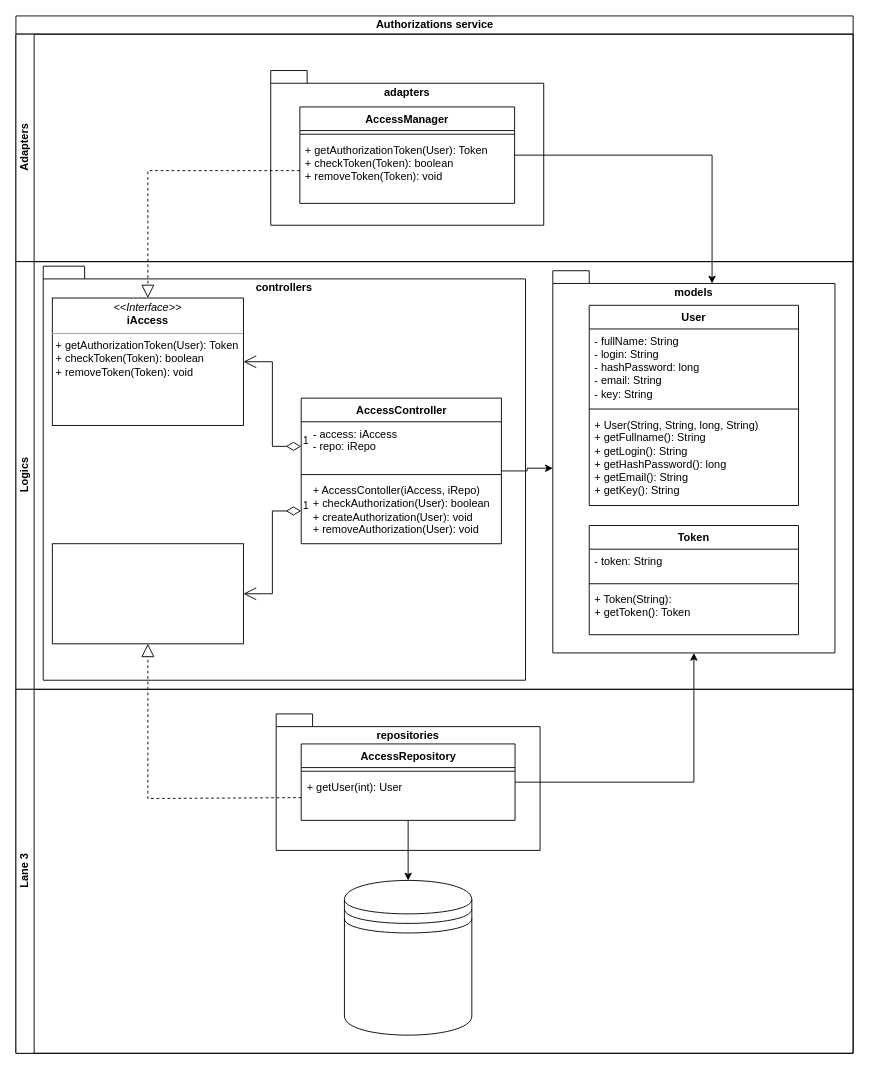
This 869x1069 diagram has some shape labels left out. Here are the shapes that lost their labels. From the top down, the centre of each, then its label:
the point at 147,593: <<Interface>> iRepo + getUser(int): User
the point at 408,957: DataBase
